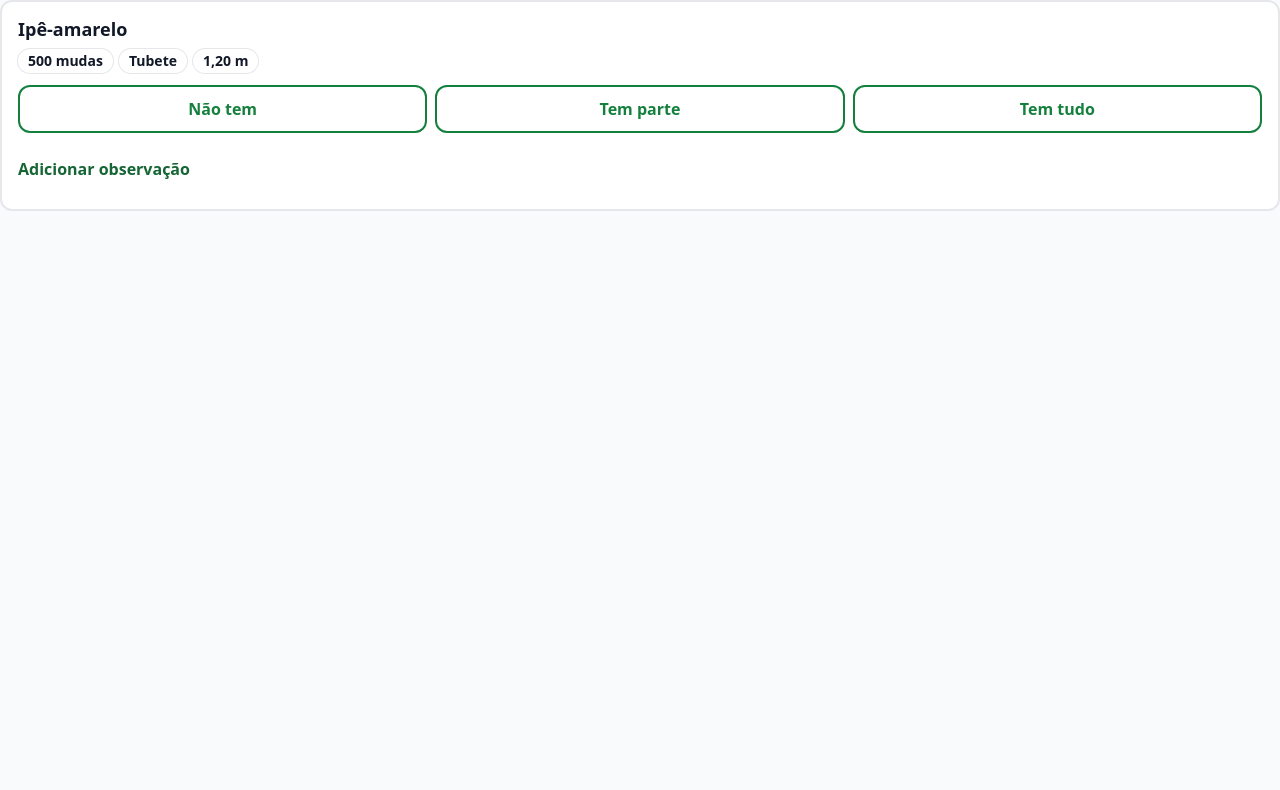
Scenario: VerificacaoItem, o "+" completa em outro recipiente (P13) › a soma das duas linhas não passa do pedido
The image size is (1280, 790).
Click the button "Tem parte" at (640, 108), box [435,84,845,132]
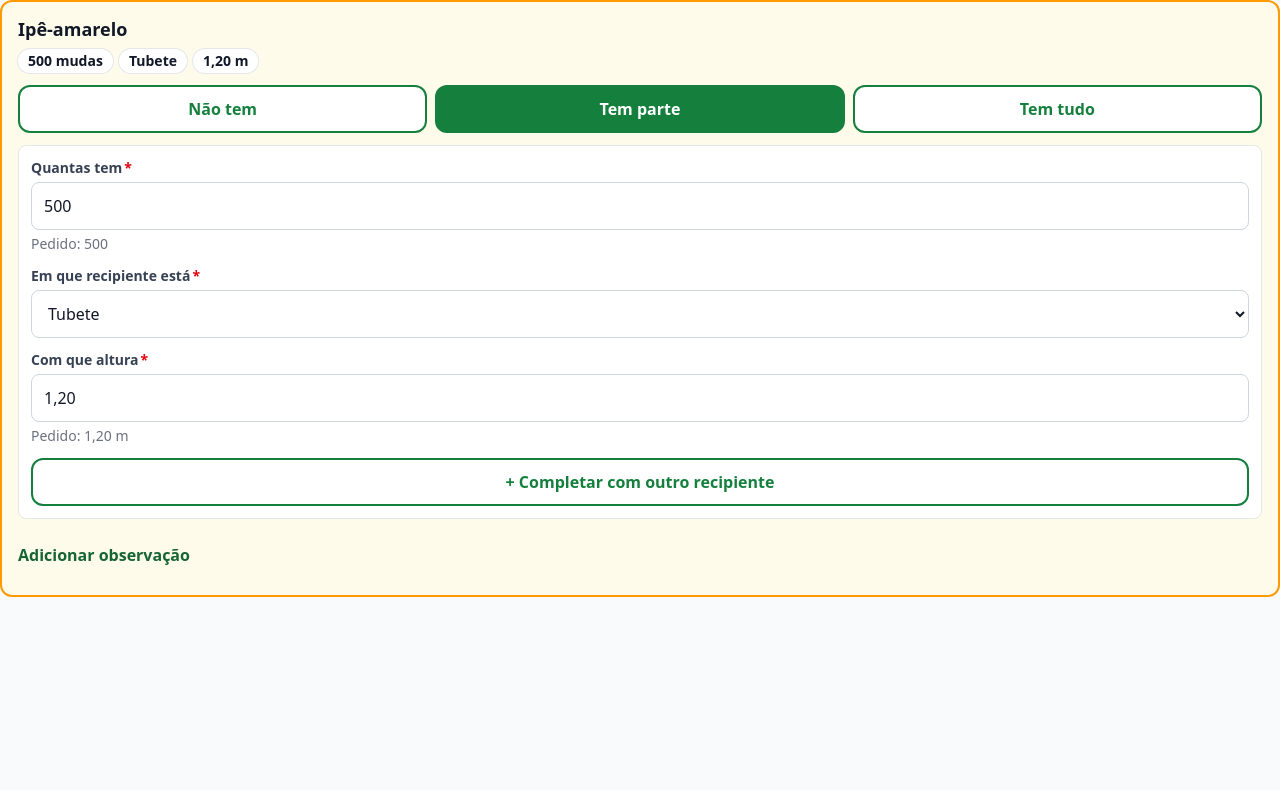
Replace the text in the field labelled "Quantas tem" with "300" at (640, 206), box [31,182,1249,230]
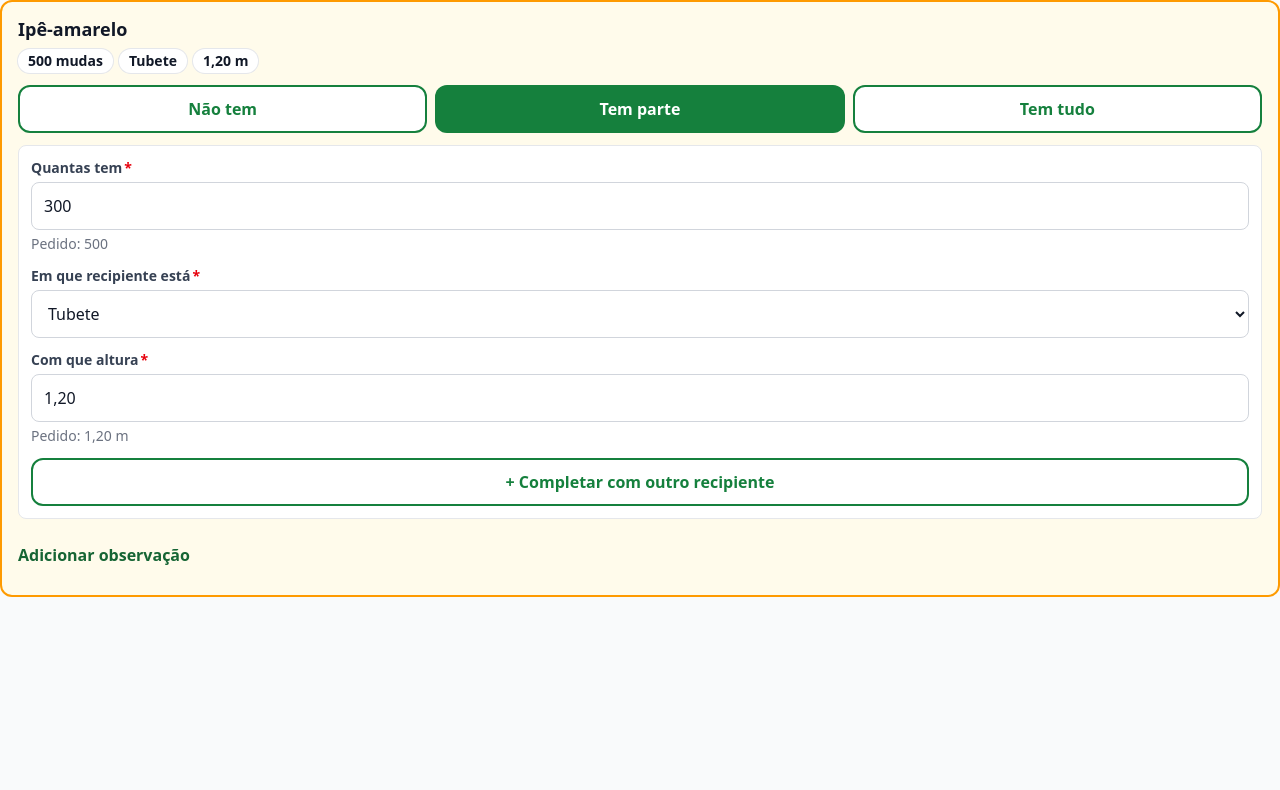
Click the button "+ Completar com outro recipiente" at (640, 482), box [31,458,1249,506]
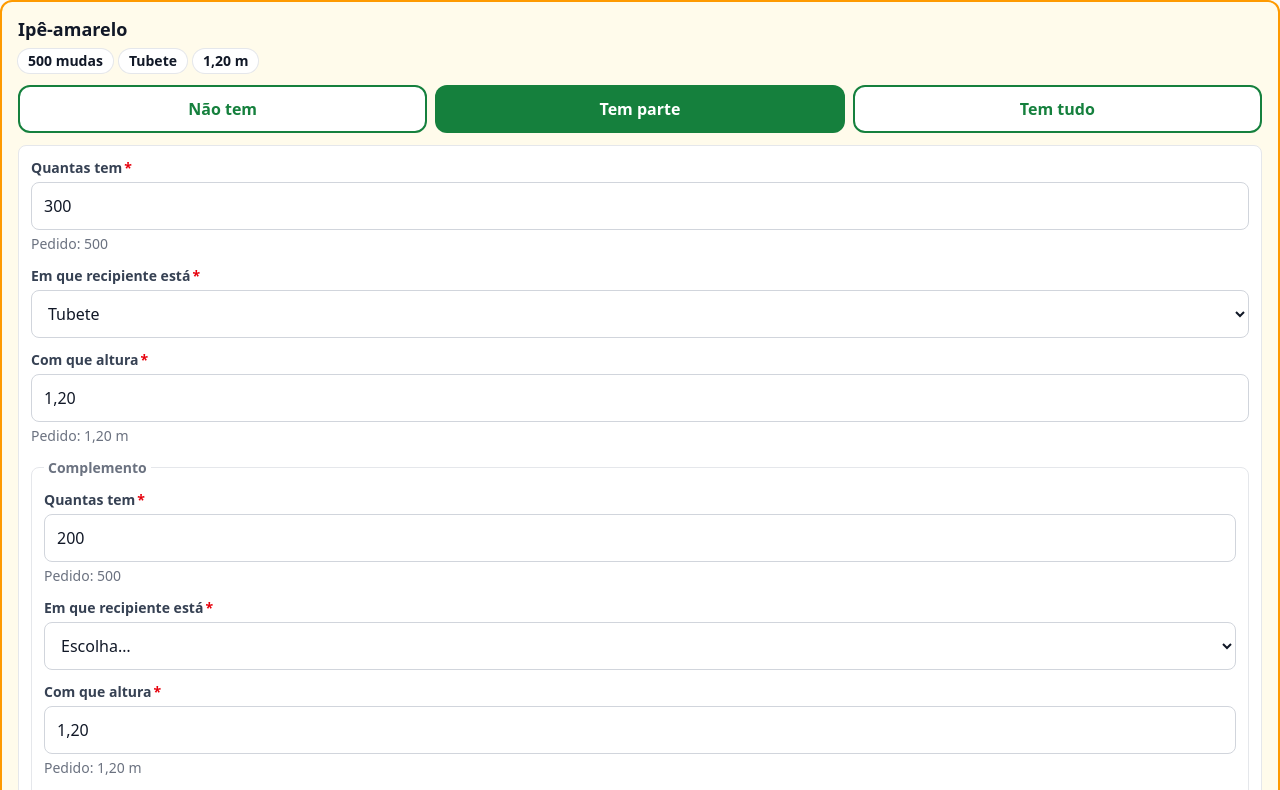
Replace the text in the 2nd field labelled "Quantas tem" with "300" at (640, 538), box [44,514,1236,562]
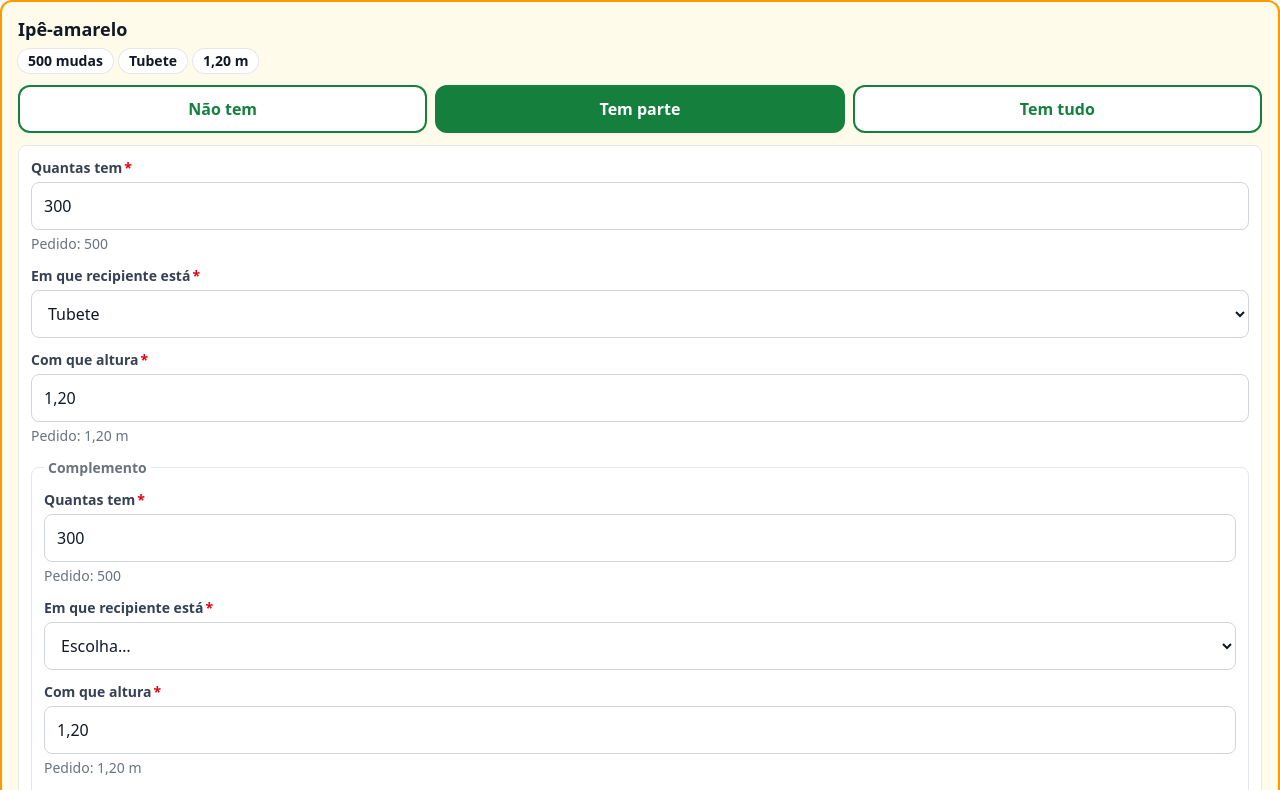
Select "Saco 10x18" in the 2nd dropdown labelled "Em que recipiente está" at (640, 646), box [44,622,1236,670]
(page scrolled)
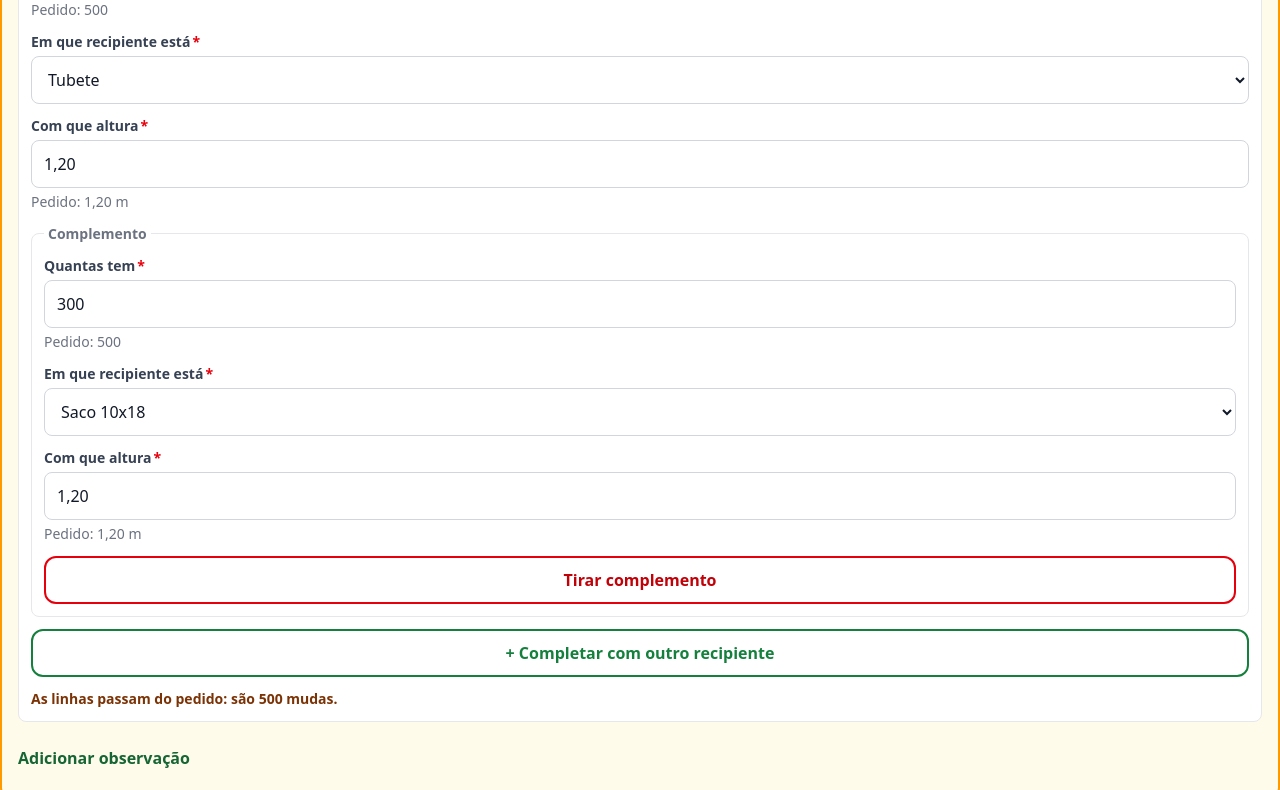
Expected: the text "As linhas passam do pedido: são 500 mudas." is shown, [31,688,338,708]
